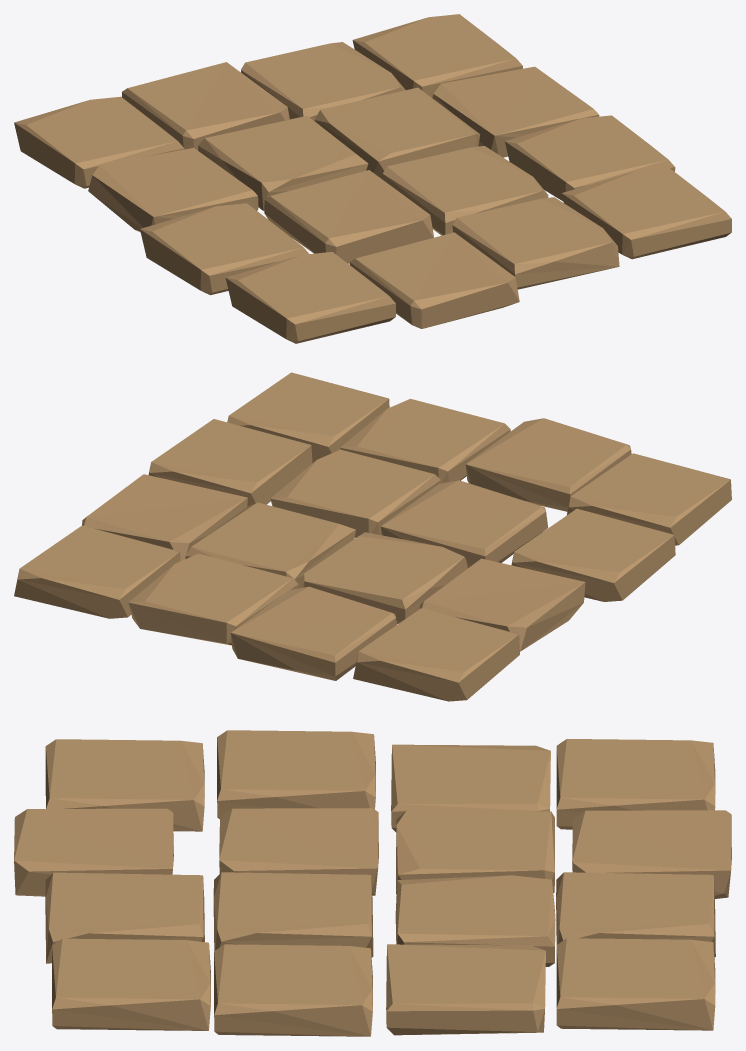
The model's file is SM_floortiles_01.fbx.
The picture shows the model from 3 angles, top to bottom: view 1: azimuth 30°, elevation 25°; view 2: azimuth 150°, elevation 25°; view 3: azimuth 270°, elevation 25°; orthographic projection. The views are drawn at different scales.
Parts seen in each view (by area): view 1: Object32863; view 2: Object32863; view 3: Object32863.
Boxes of the visible parts, x1,y1,x2,y2 form: Object32863: (14,14,731,343); Object32863: (14,372,731,701); Object32863: (14,730,731,1036).
Bounding box in the file's own units: 81.64 × 4.61 × 89.42.
